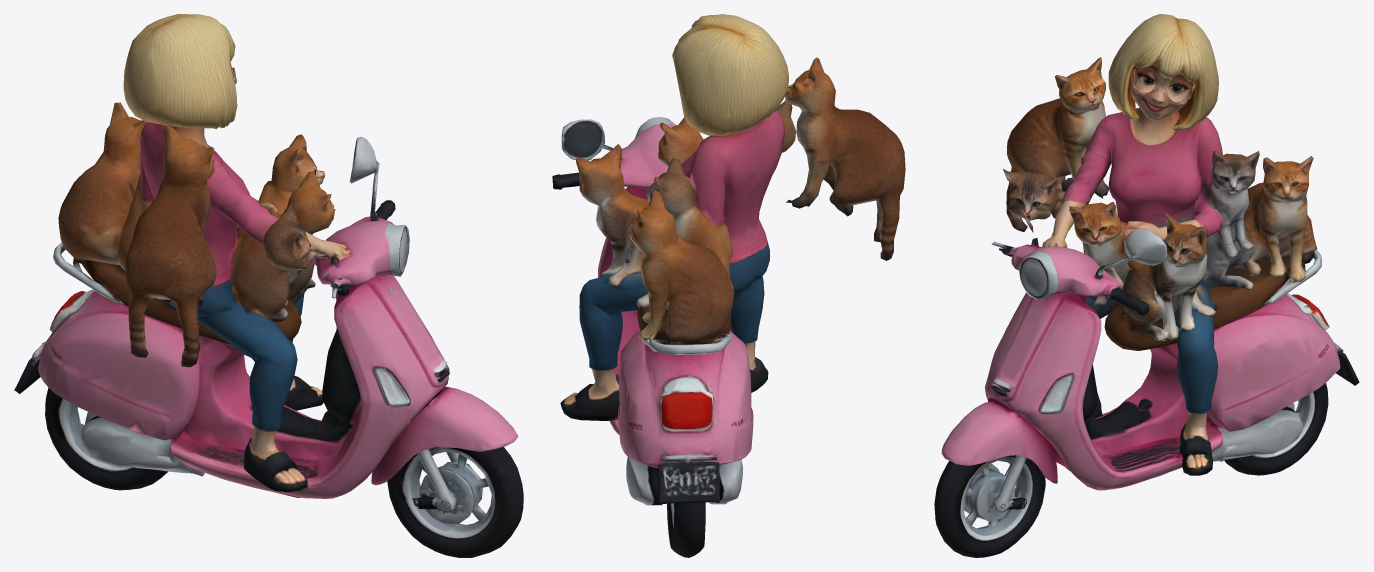
File: karen.glb
The picture shows the model from 3 angles, left to right: view 1: azimuth 30°, elevation 25°; view 2: azimuth 150°, elevation 25°; view 3: azimuth 270°, elevation 25°; orthographic projection. The views are drawn at different scales.
Parts seen in each view (by area): view 1: tripo_node_f0f1bd61-2243-487a-b41c-b37f8f4bbadc; view 2: tripo_node_f0f1bd61-2243-487a-b41c-b37f8f4bbadc; view 3: tripo_node_f0f1bd61-2243-487a-b41c-b37f8f4bbadc.
Boxes of the visible parts, x1,y1,x2,y2 form: tripo_node_f0f1bd61-2243-487a-b41c-b37f8f4bbadc: (14, 14, 523, 557); tripo_node_f0f1bd61-2243-487a-b41c-b37f8f4bbadc: (552, 14, 905, 557); tripo_node_f0f1bd61-2243-487a-b41c-b37f8f4bbadc: (934, 14, 1359, 557).
Size of the model in its own units: 1.05 by 1.5 by 1.26.
1 material, 1 textured.
